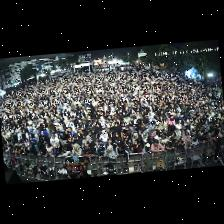person: (114, 144, 128, 168), (49, 134, 59, 154), (82, 143, 95, 157), (71, 134, 81, 152), (29, 133, 38, 152), (150, 140, 163, 153), (128, 140, 141, 153), (113, 131, 124, 146), (103, 146, 115, 159), (58, 127, 66, 146), (60, 144, 71, 156), (85, 122, 95, 135), (100, 130, 107, 148), (164, 138, 174, 150), (96, 144, 104, 158), (85, 136, 94, 148), (105, 138, 114, 150), (71, 144, 80, 156), (158, 134, 167, 146), (138, 123, 147, 135), (37, 142, 45, 155), (123, 134, 131, 147), (159, 127, 170, 136), (94, 138, 101, 152), (23, 139, 30, 153), (14, 143, 23, 153), (198, 133, 207, 143), (34, 129, 40, 144), (146, 134, 154, 145), (181, 131, 189, 142), (88, 131, 95, 143), (45, 143, 52, 155), (141, 144, 150, 153), (113, 122, 121, 132), (191, 134, 197, 147), (141, 130, 147, 143), (174, 127, 180, 139), (167, 115, 174, 125), (98, 117, 104, 128), (183, 140, 190, 149), (7, 145, 14, 153), (206, 134, 211, 145), (131, 133, 137, 142), (79, 171, 88, 177), (180, 126, 184, 137)
